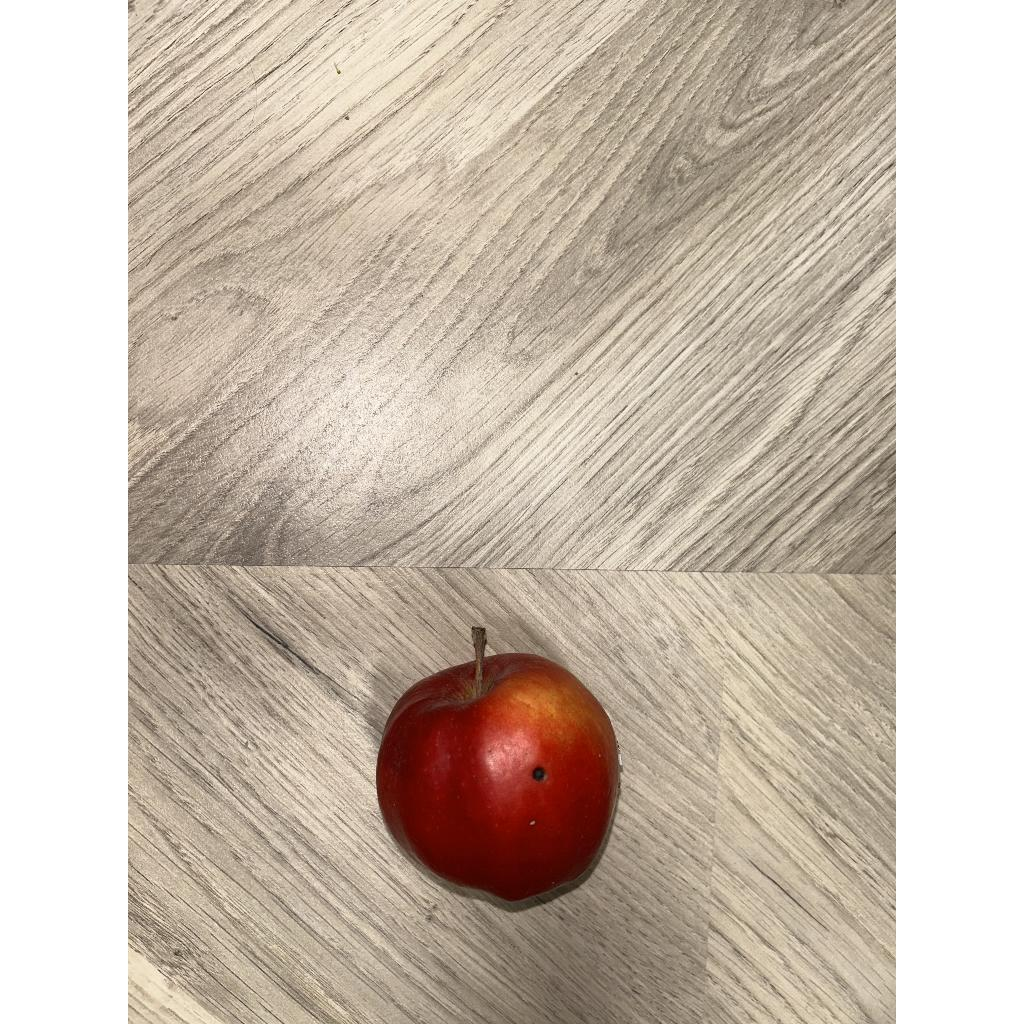apple: (376, 626, 620, 900)
